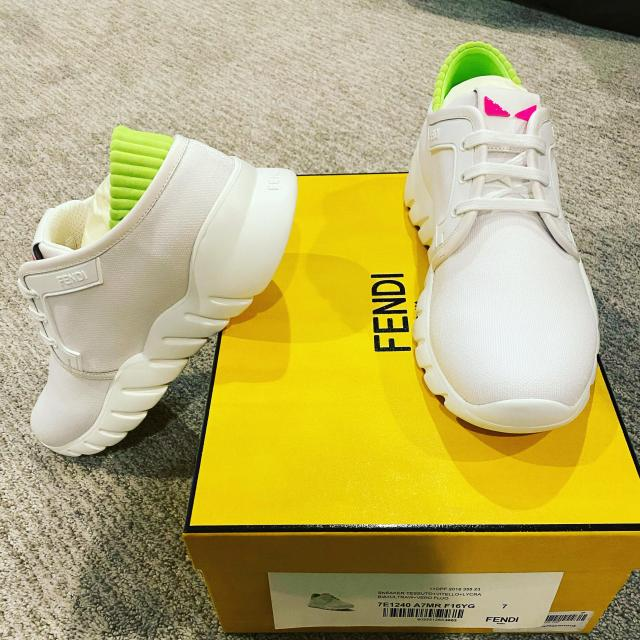shoe: (12, 120, 302, 463), (397, 36, 605, 453)
